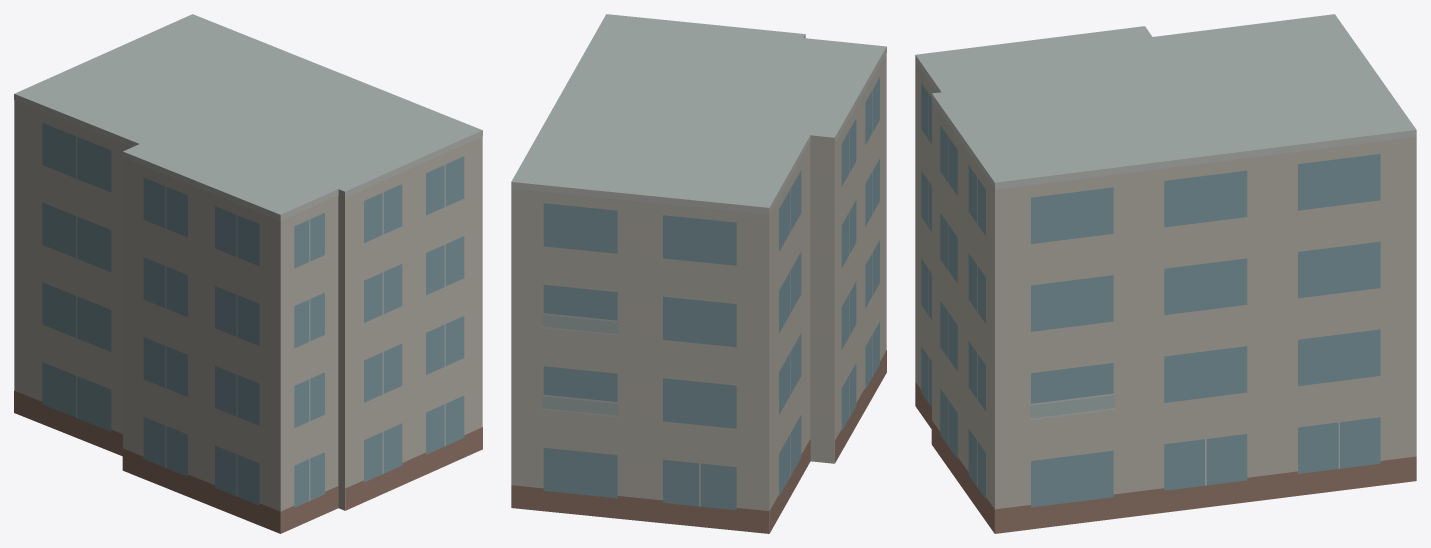
Rendered from survey-upis-32965424.glb.
3 renders of one model, left to right at view 1: azimuth 30°, elevation 25°; view 2: azimuth 150°, elevation 25°; view 3: azimuth 270°, elevation 25°, orthographic. The views are drawn at different scales.
Parts seen in each view (by area): view 1: survey-upis-32965424.tmp; view 2: survey-upis-32965424.tmp; view 3: survey-upis-32965424.tmp.
Part boxes in pixels (x1,y1,x2,y2): survey-upis-32965424.tmp: (14,14,482,533); survey-upis-32965424.tmp: (511,14,886,533); survey-upis-32965424.tmp: (915,14,1416,533).
Bounding box in the file's own units: 12.68 × 12.3 × 15.92.
